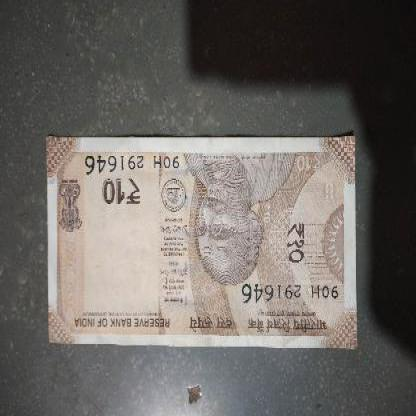New10Front: (47, 136, 357, 347)
